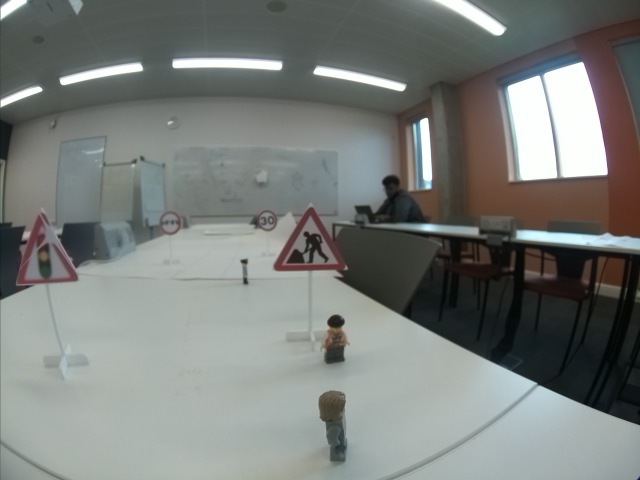30mph: (256, 211, 277, 231)
6ft6: (161, 212, 181, 235)
Lego Man: (320, 390, 347, 462), (320, 312, 351, 364), (240, 258, 250, 283)
Roadworks: (273, 207, 346, 272)
Traffic lights: (15, 208, 77, 285)
